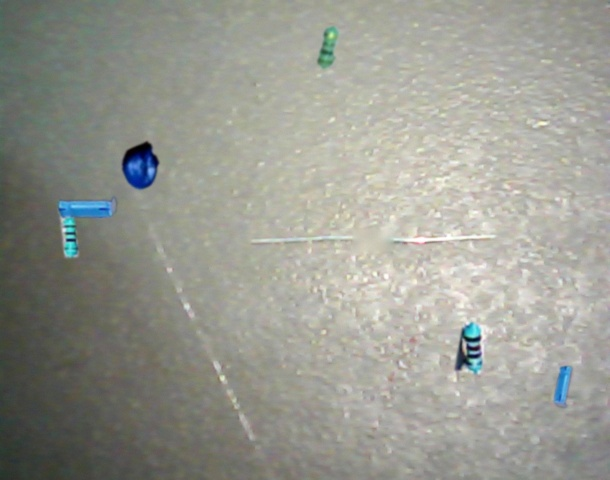capacitor: (122, 141, 160, 190), (58, 198, 116, 218), (554, 366, 572, 407)
resistor: (455, 321, 489, 374), (317, 26, 340, 69), (60, 213, 79, 258)
